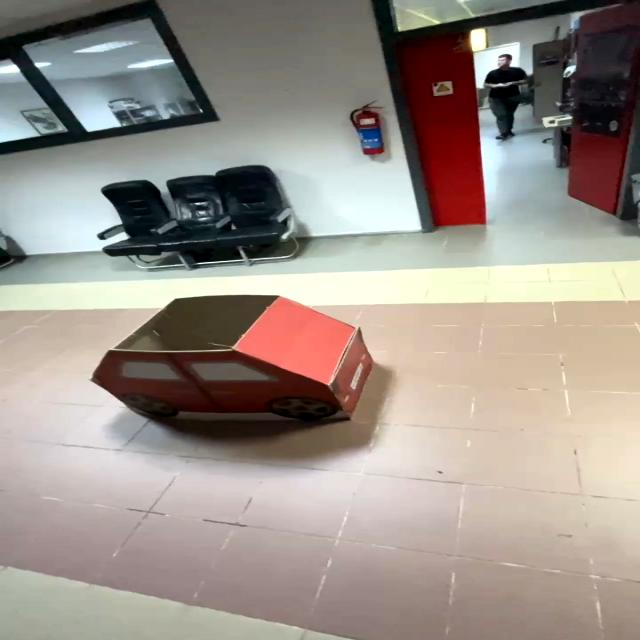red_car: (80, 283, 409, 459)
